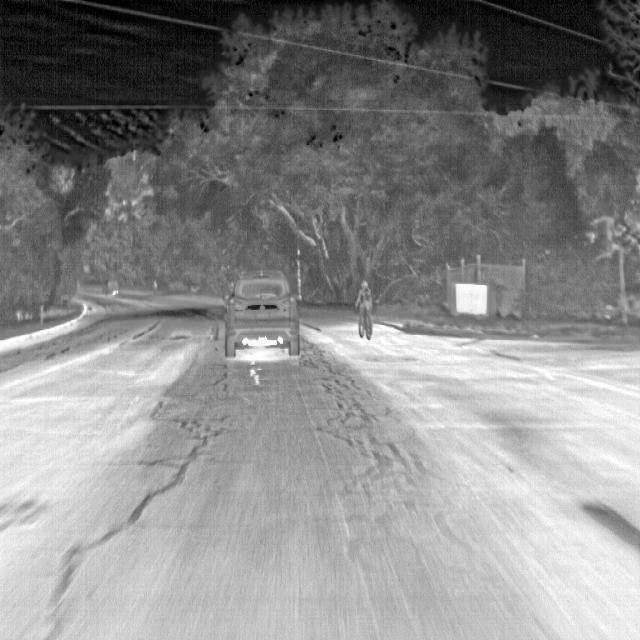Pedestrian: (351, 276, 376, 342)
Vehicle: (221, 266, 302, 360)
